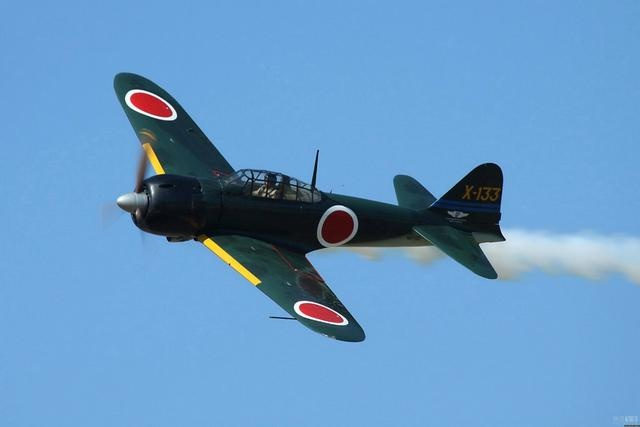airplane: (92, 70, 511, 347)
